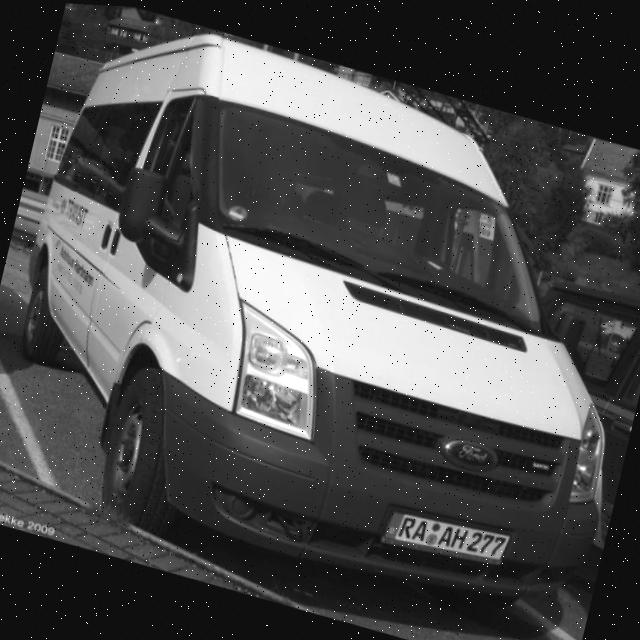license-plates: (382, 511, 511, 566)
